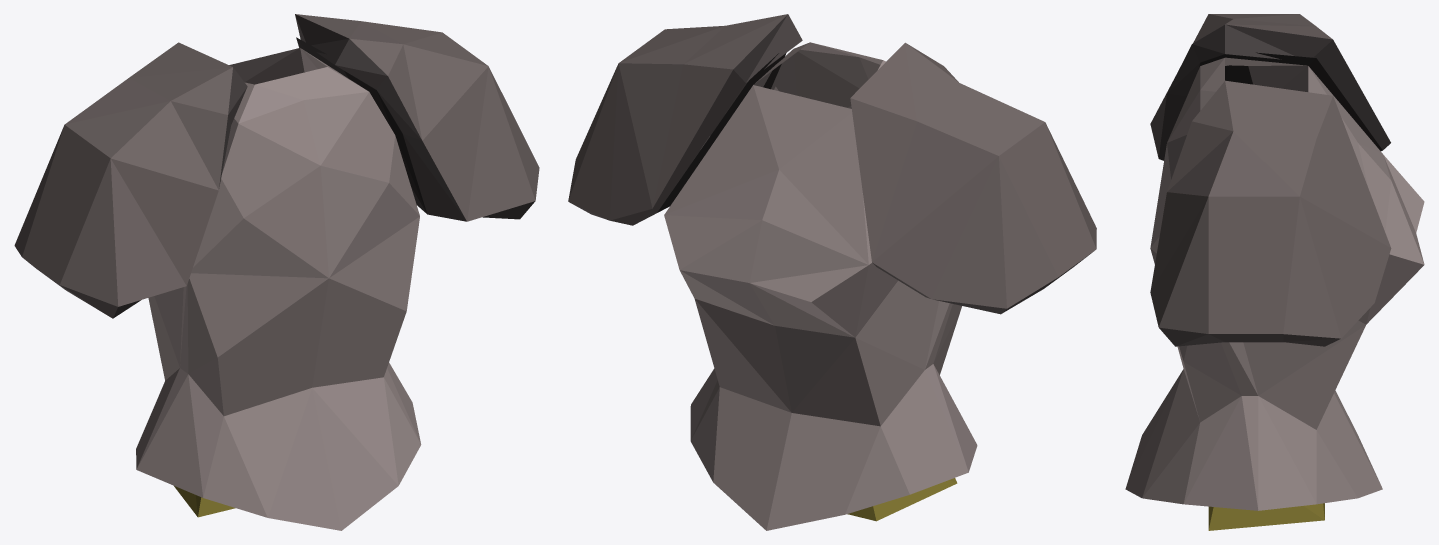
The model's file is npc_world_zenesha_1.obj.
The picture shows the model from 3 angles, left to right: view 1: azimuth 30°, elevation 25°; view 2: azimuth 150°, elevation 25°; view 3: azimuth 270°, elevation 25°; orthographic projection.
Size of the model in its own units: 0.5156 by 0.4531 by 0.2812.
